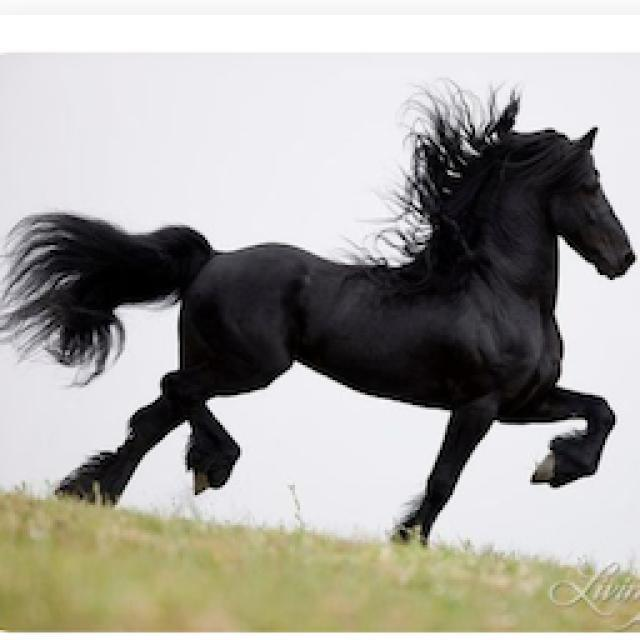Horse: (0, 78, 638, 552)
